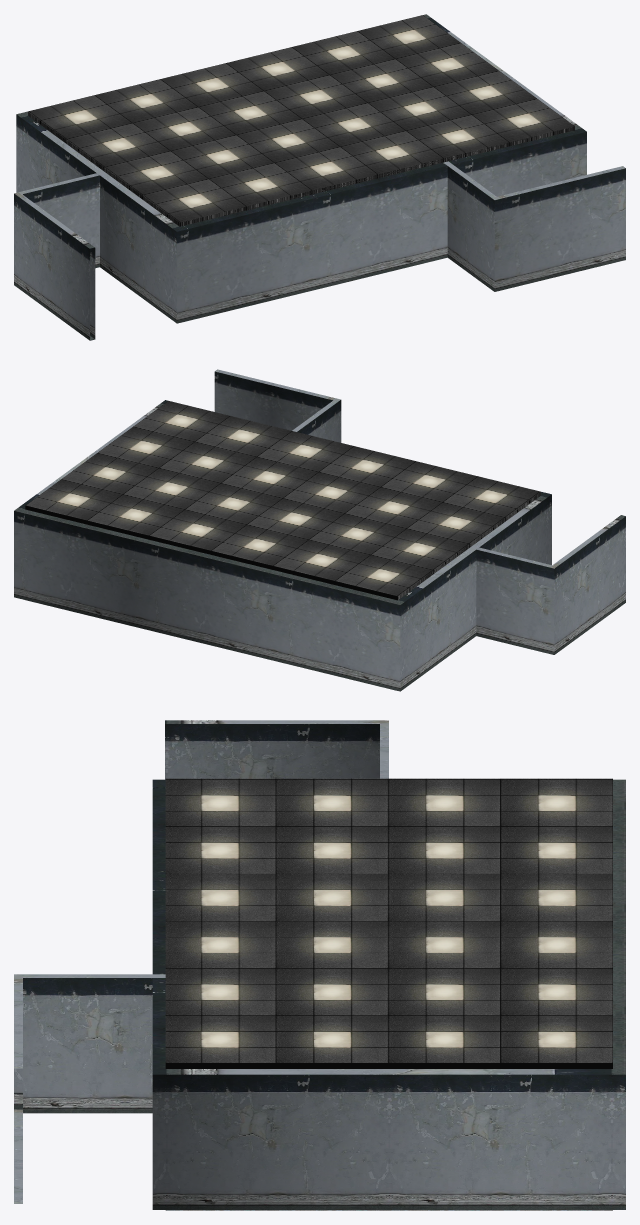
The model's file is Arcade.glb.
The picture shows the model from 3 angles, top to bottom: view 1: azimuth 30°, elevation 25°; view 2: azimuth 150°, elevation 25°; view 3: azimuth 270°, elevation 25°; orthographic projection. The views are drawn at different scales.
Visible parts, largest first — view 1: Arcade; view 2: Arcade; view 3: Arcade.
Part boxes in pixels (x1=…): Arcade: x1=14, y1=14, x2=625, y2=340; Arcade: x1=14, y1=369, x2=625, y2=691; Arcade: x1=14, y1=720, x2=625, y2=1210.
Size of the model in its own units: 188 by 36.65 by 137.
Materials: 14 (13 with a texture image).
